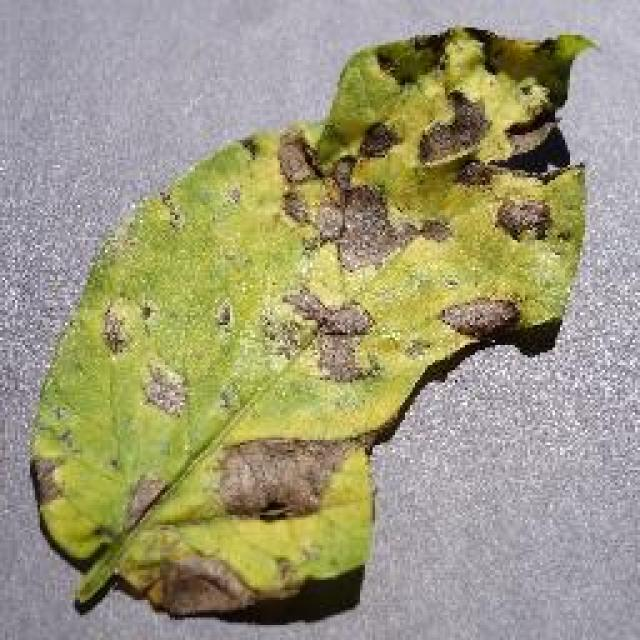early_blight: (22, 20, 600, 622)
